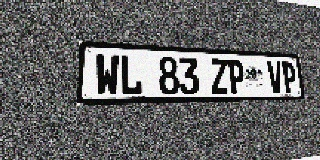3: (179, 57, 199, 95)
8: (158, 56, 179, 95)
L: (120, 55, 142, 96)
P: (227, 59, 245, 94), (281, 62, 297, 93)
V: (267, 61, 284, 93)
W: (95, 54, 119, 96)
Z: (210, 59, 229, 94)
